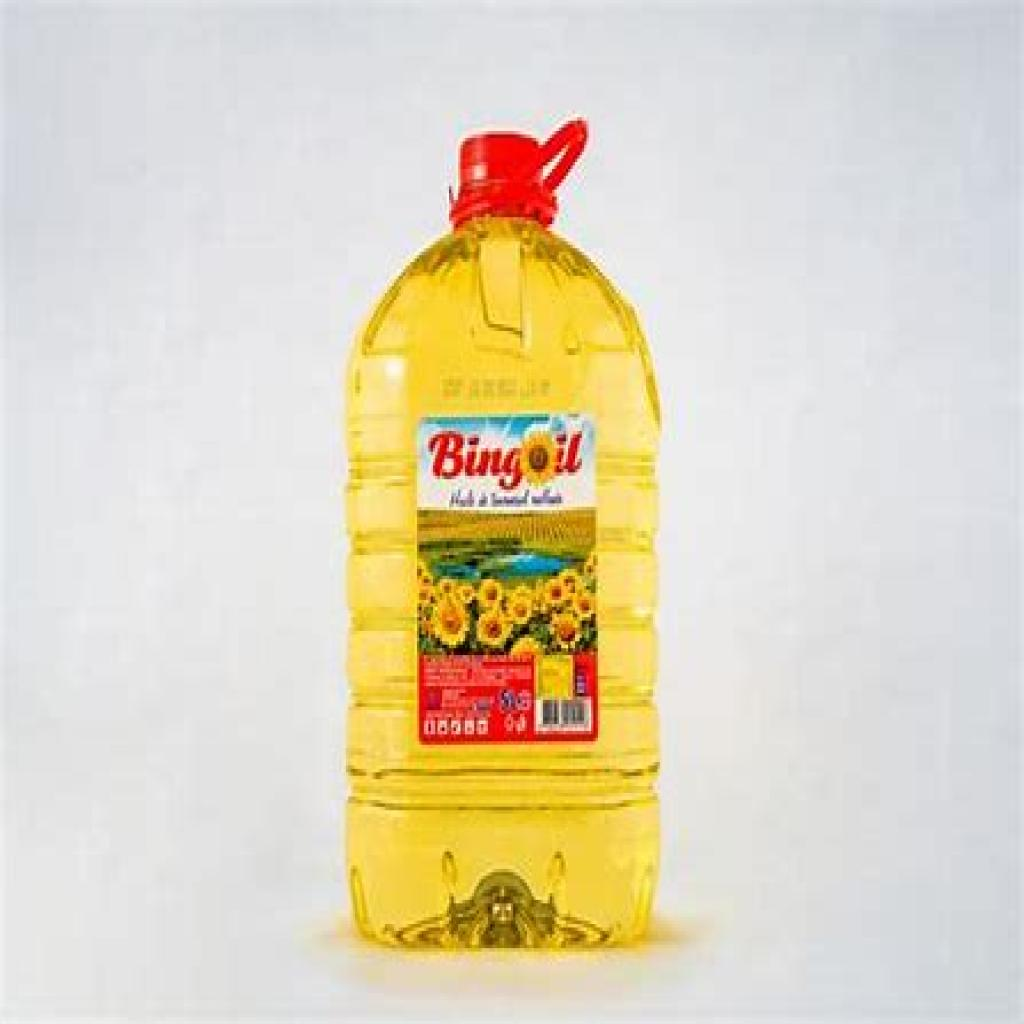organico: (311, 109, 685, 975)
